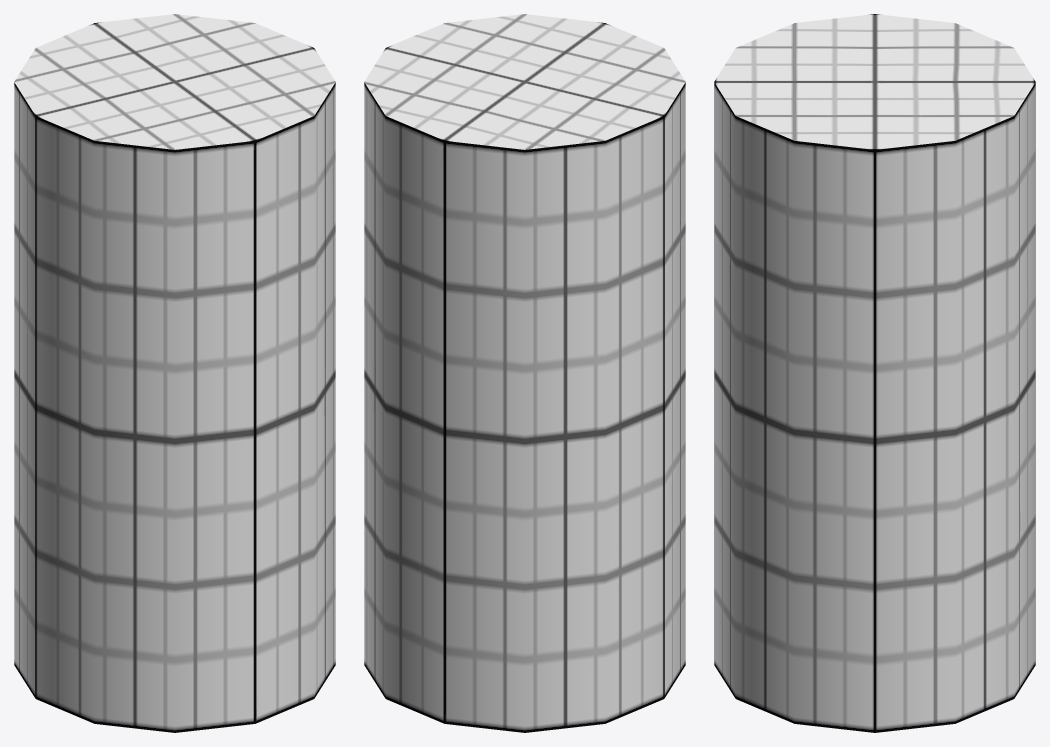
The picture shows the model from 3 angles, left to right: view 1: azimuth 30°, elevation 25°; view 2: azimuth 150°, elevation 25°; view 3: azimuth 270°, elevation 25°; orthographic projection.
Visible parts, largest first — view 1: Object, Yplus; view 2: Object, Yplus; view 3: Object, Yplus.
Boxes of the visible parts, left/top/right/bottom form: Object: left=14, top=82, right=335, bottom=732; Yplus: left=14, top=14, right=335, bottom=149; Object: left=364, top=82, right=685, bottom=732; Yplus: left=364, top=14, right=685, bottom=149; Object: left=714, top=82, right=1035, bottom=732; Yplus: left=714, top=14, right=1035, bottom=149.
Size of the model in its own units: 25 by 50 by 25.
